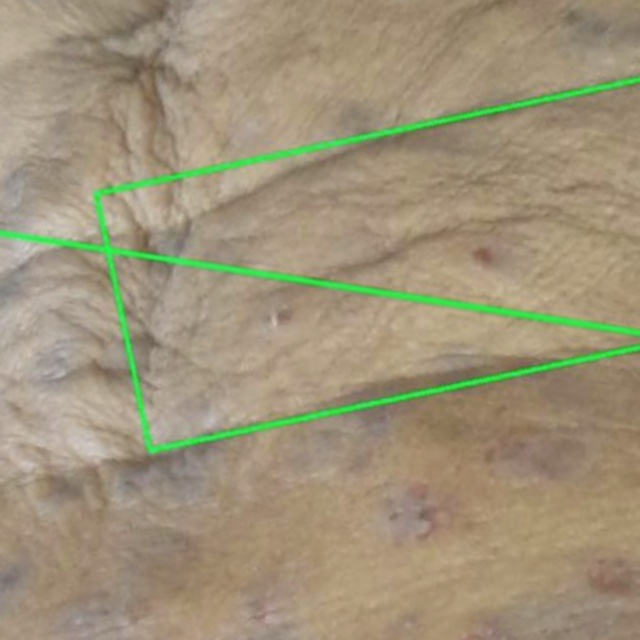Contact Dermatitis: (0, 233, 639, 639), (84, 51, 639, 450)
